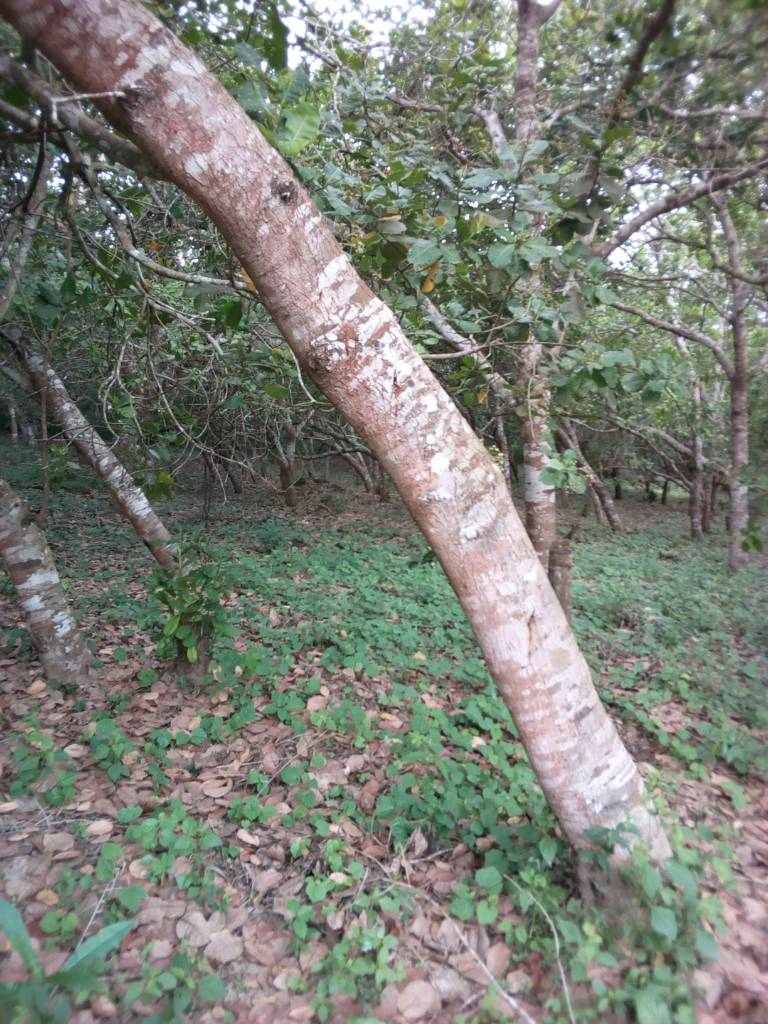Apate terebrans: (261, 172, 315, 214)
